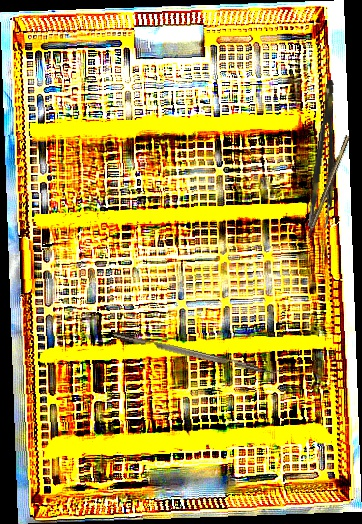Chopper: (113, 324, 283, 379)
Hook Surgical: (303, 134, 351, 243)
Tissue Forceps: (307, 79, 347, 229)
